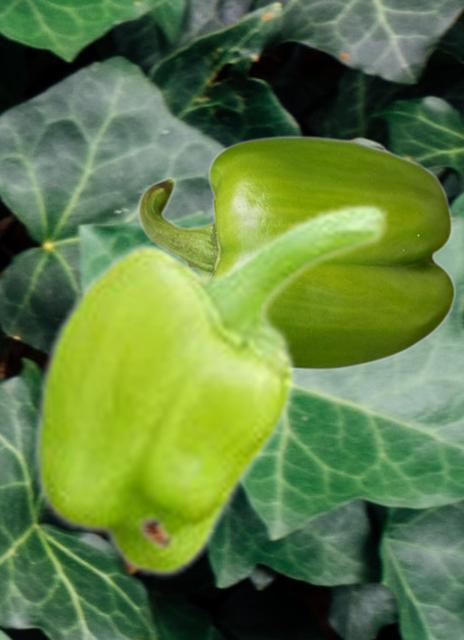bell_pepper: (31, 200, 390, 578), (137, 135, 455, 370)
